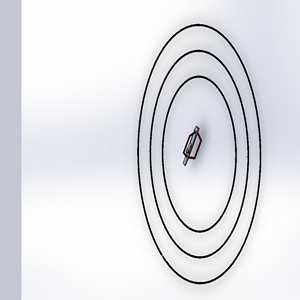circle: (133, 16, 273, 290)
submarine: (177, 121, 211, 175)
